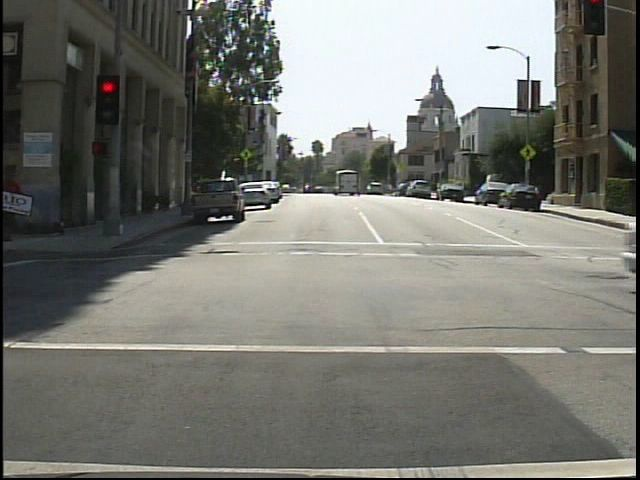person: (4, 159, 25, 244)
